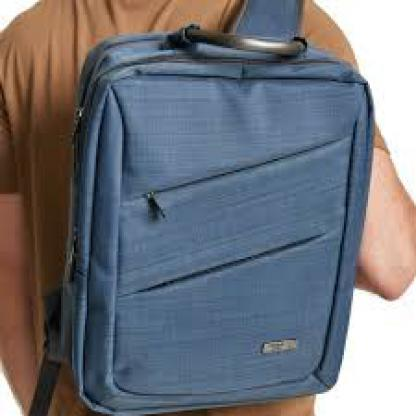morral: (42, 17, 376, 412)
